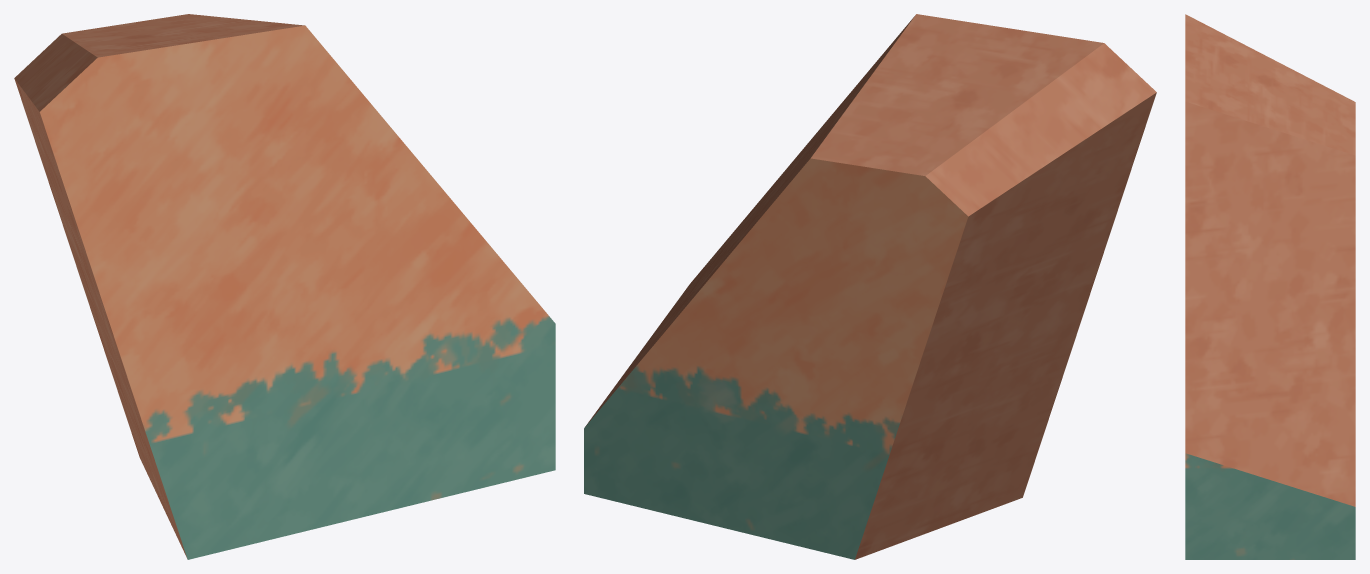
Rendered from townwall_s01.fbx.
3 renders of one model, left to right at view 1: azimuth 30°, elevation 25°; view 2: azimuth 150°, elevation 25°; view 3: azimuth 270°, elevation 25°, orthographic. The views are drawn at different scales.
Parts seen in each view (by area): view 1: townwall_s01; view 2: townwall_s01; view 3: townwall_s01.
Boxes of the visible parts, <box> form: townwall_s01: <box>14,14,555,559</box>; townwall_s01: <box>584,14,1156,559</box>; townwall_s01: <box>1185,14,1355,559</box>.
Bounding box in the file's own units: 7.65 × 7.43 × 3.
